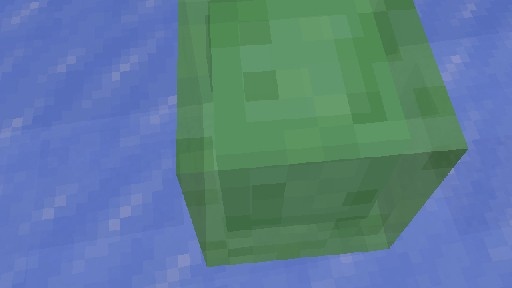slime: (175, 0, 468, 266)
